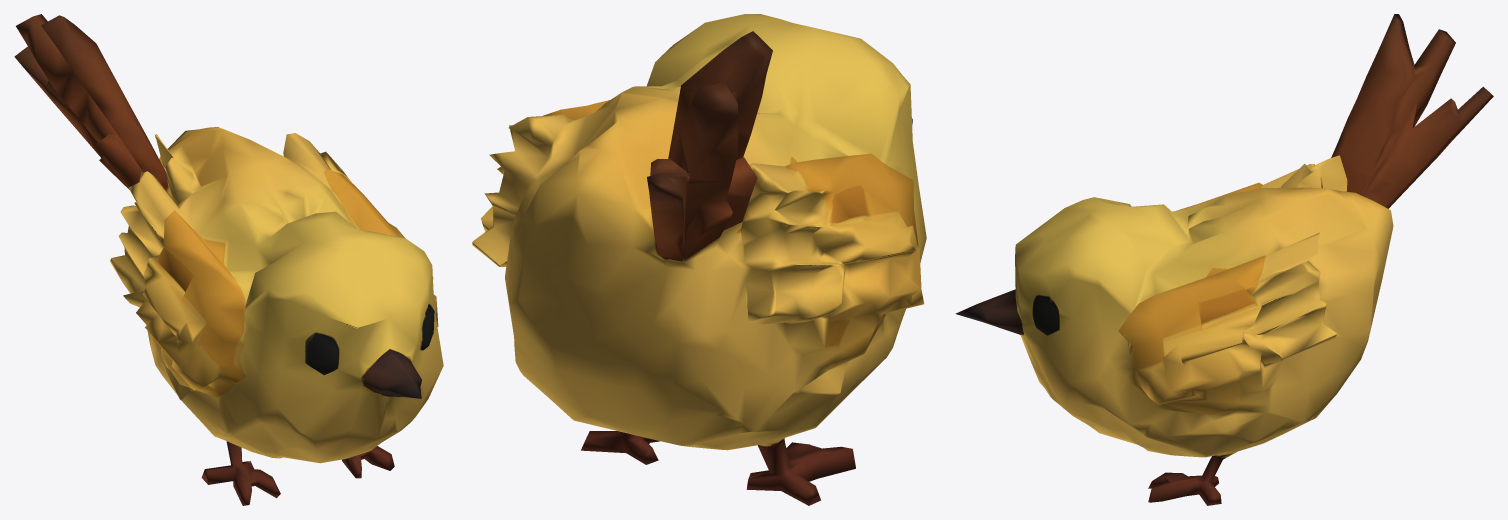
The model's file is bird.glb.
The picture shows the model from 3 angles, left to right: view 1: azimuth 30°, elevation 25°; view 2: azimuth 150°, elevation 25°; view 3: azimuth 270°, elevation 25°; orthographic projection. The views are drawn at different scales.
Visible parts, largest first — view 1: tripo_node_0ffc6d03-cf64-47f9-b700-f7ab7beac110; view 2: tripo_node_0ffc6d03-cf64-47f9-b700-f7ab7beac110; view 3: tripo_node_0ffc6d03-cf64-47f9-b700-f7ab7beac110.
Boxes of the visible parts, x1=… form: tripo_node_0ffc6d03-cf64-47f9-b700-f7ab7beac110: x1=14, y1=14, x2=443, y2=505; tripo_node_0ffc6d03-cf64-47f9-b700-f7ab7beac110: x1=472, y1=14, x2=926, y2=505; tripo_node_0ffc6d03-cf64-47f9-b700-f7ab7beac110: x1=955, y1=14, x2=1493, y2=505.
Bounding box in the file's own units: 0.5597 × 0.7929 × 0.9831.
Materials: 1 (1 with a texture image).
